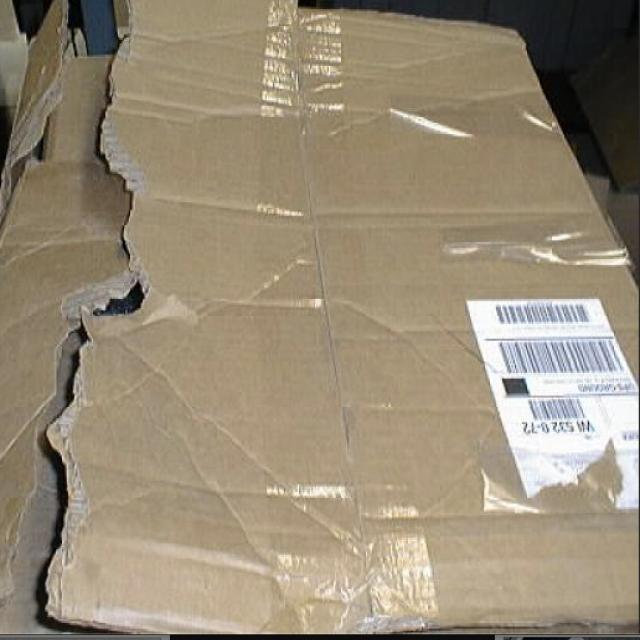hole: (28, 10, 162, 640)
